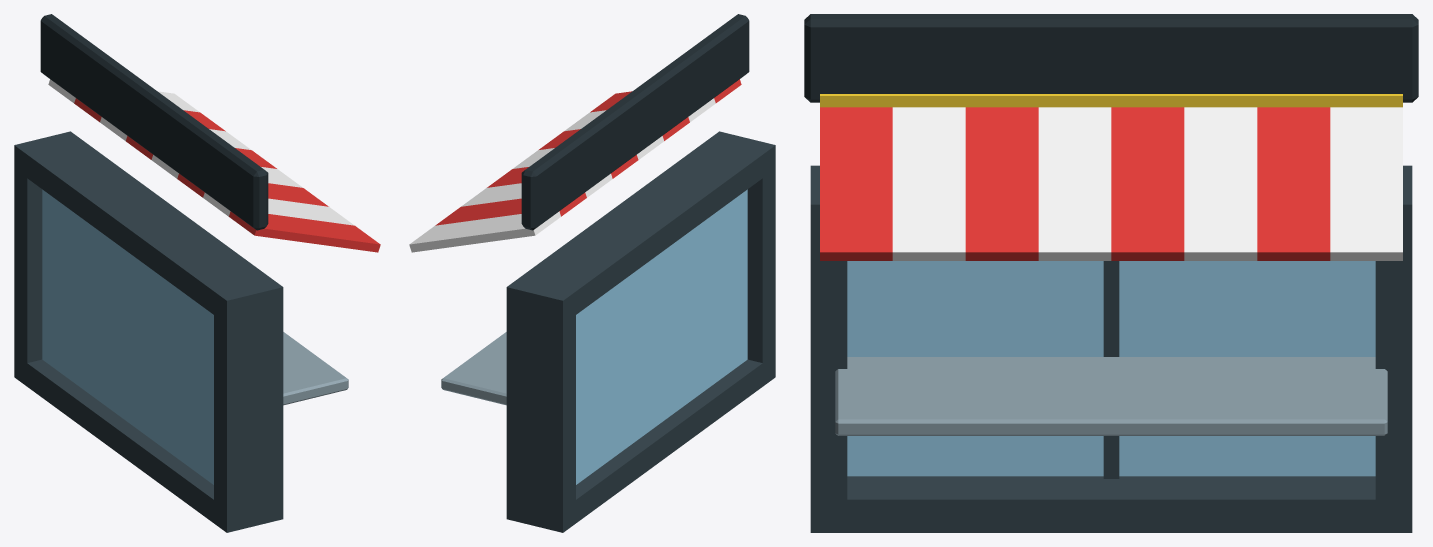
Rendered from Gise.fbx.
3 views of the same model, side by side, from view 1: azimuth 30°, elevation 25°; view 2: azimuth 150°, elevation 25°; view 3: azimuth 270°, elevation 25° (orthographic). The views are drawn at different scales.
Parts seen in each view (by area): view 1: Gise; view 2: Gise; view 3: Gise.
Boxes of the visible parts, x1,y1,x2,y2 form: Gise: [14, 14, 380, 532]; Gise: [409, 14, 775, 532]; Gise: [804, 14, 1418, 532].
Bounding box in the file's own units: 83.57 × 180 × 200.
